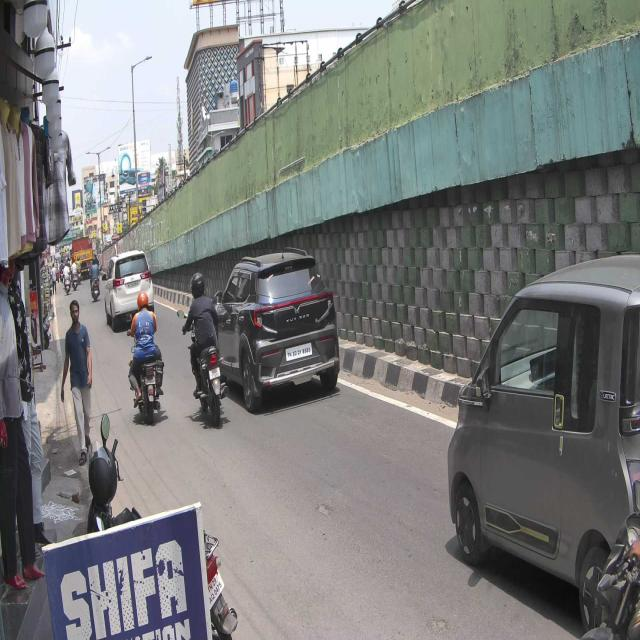single_rider: (178, 271, 230, 429), (125, 289, 166, 422)
